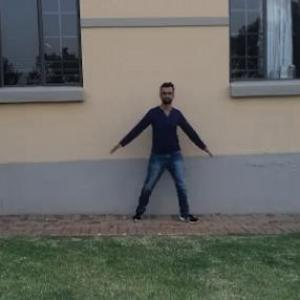land: (109, 85, 209, 237)
